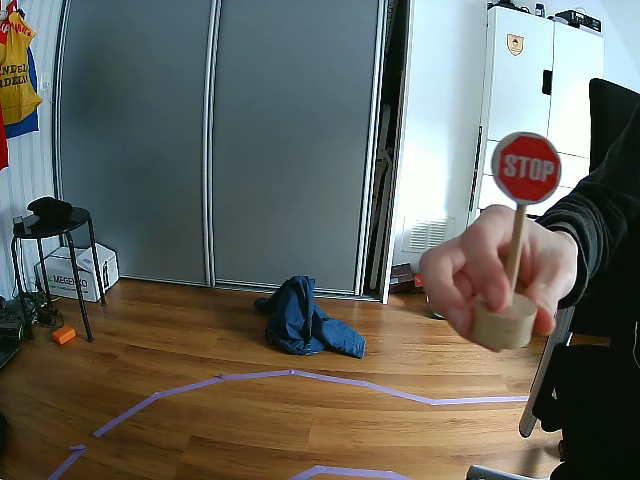stopbord: (492, 134, 561, 201)
